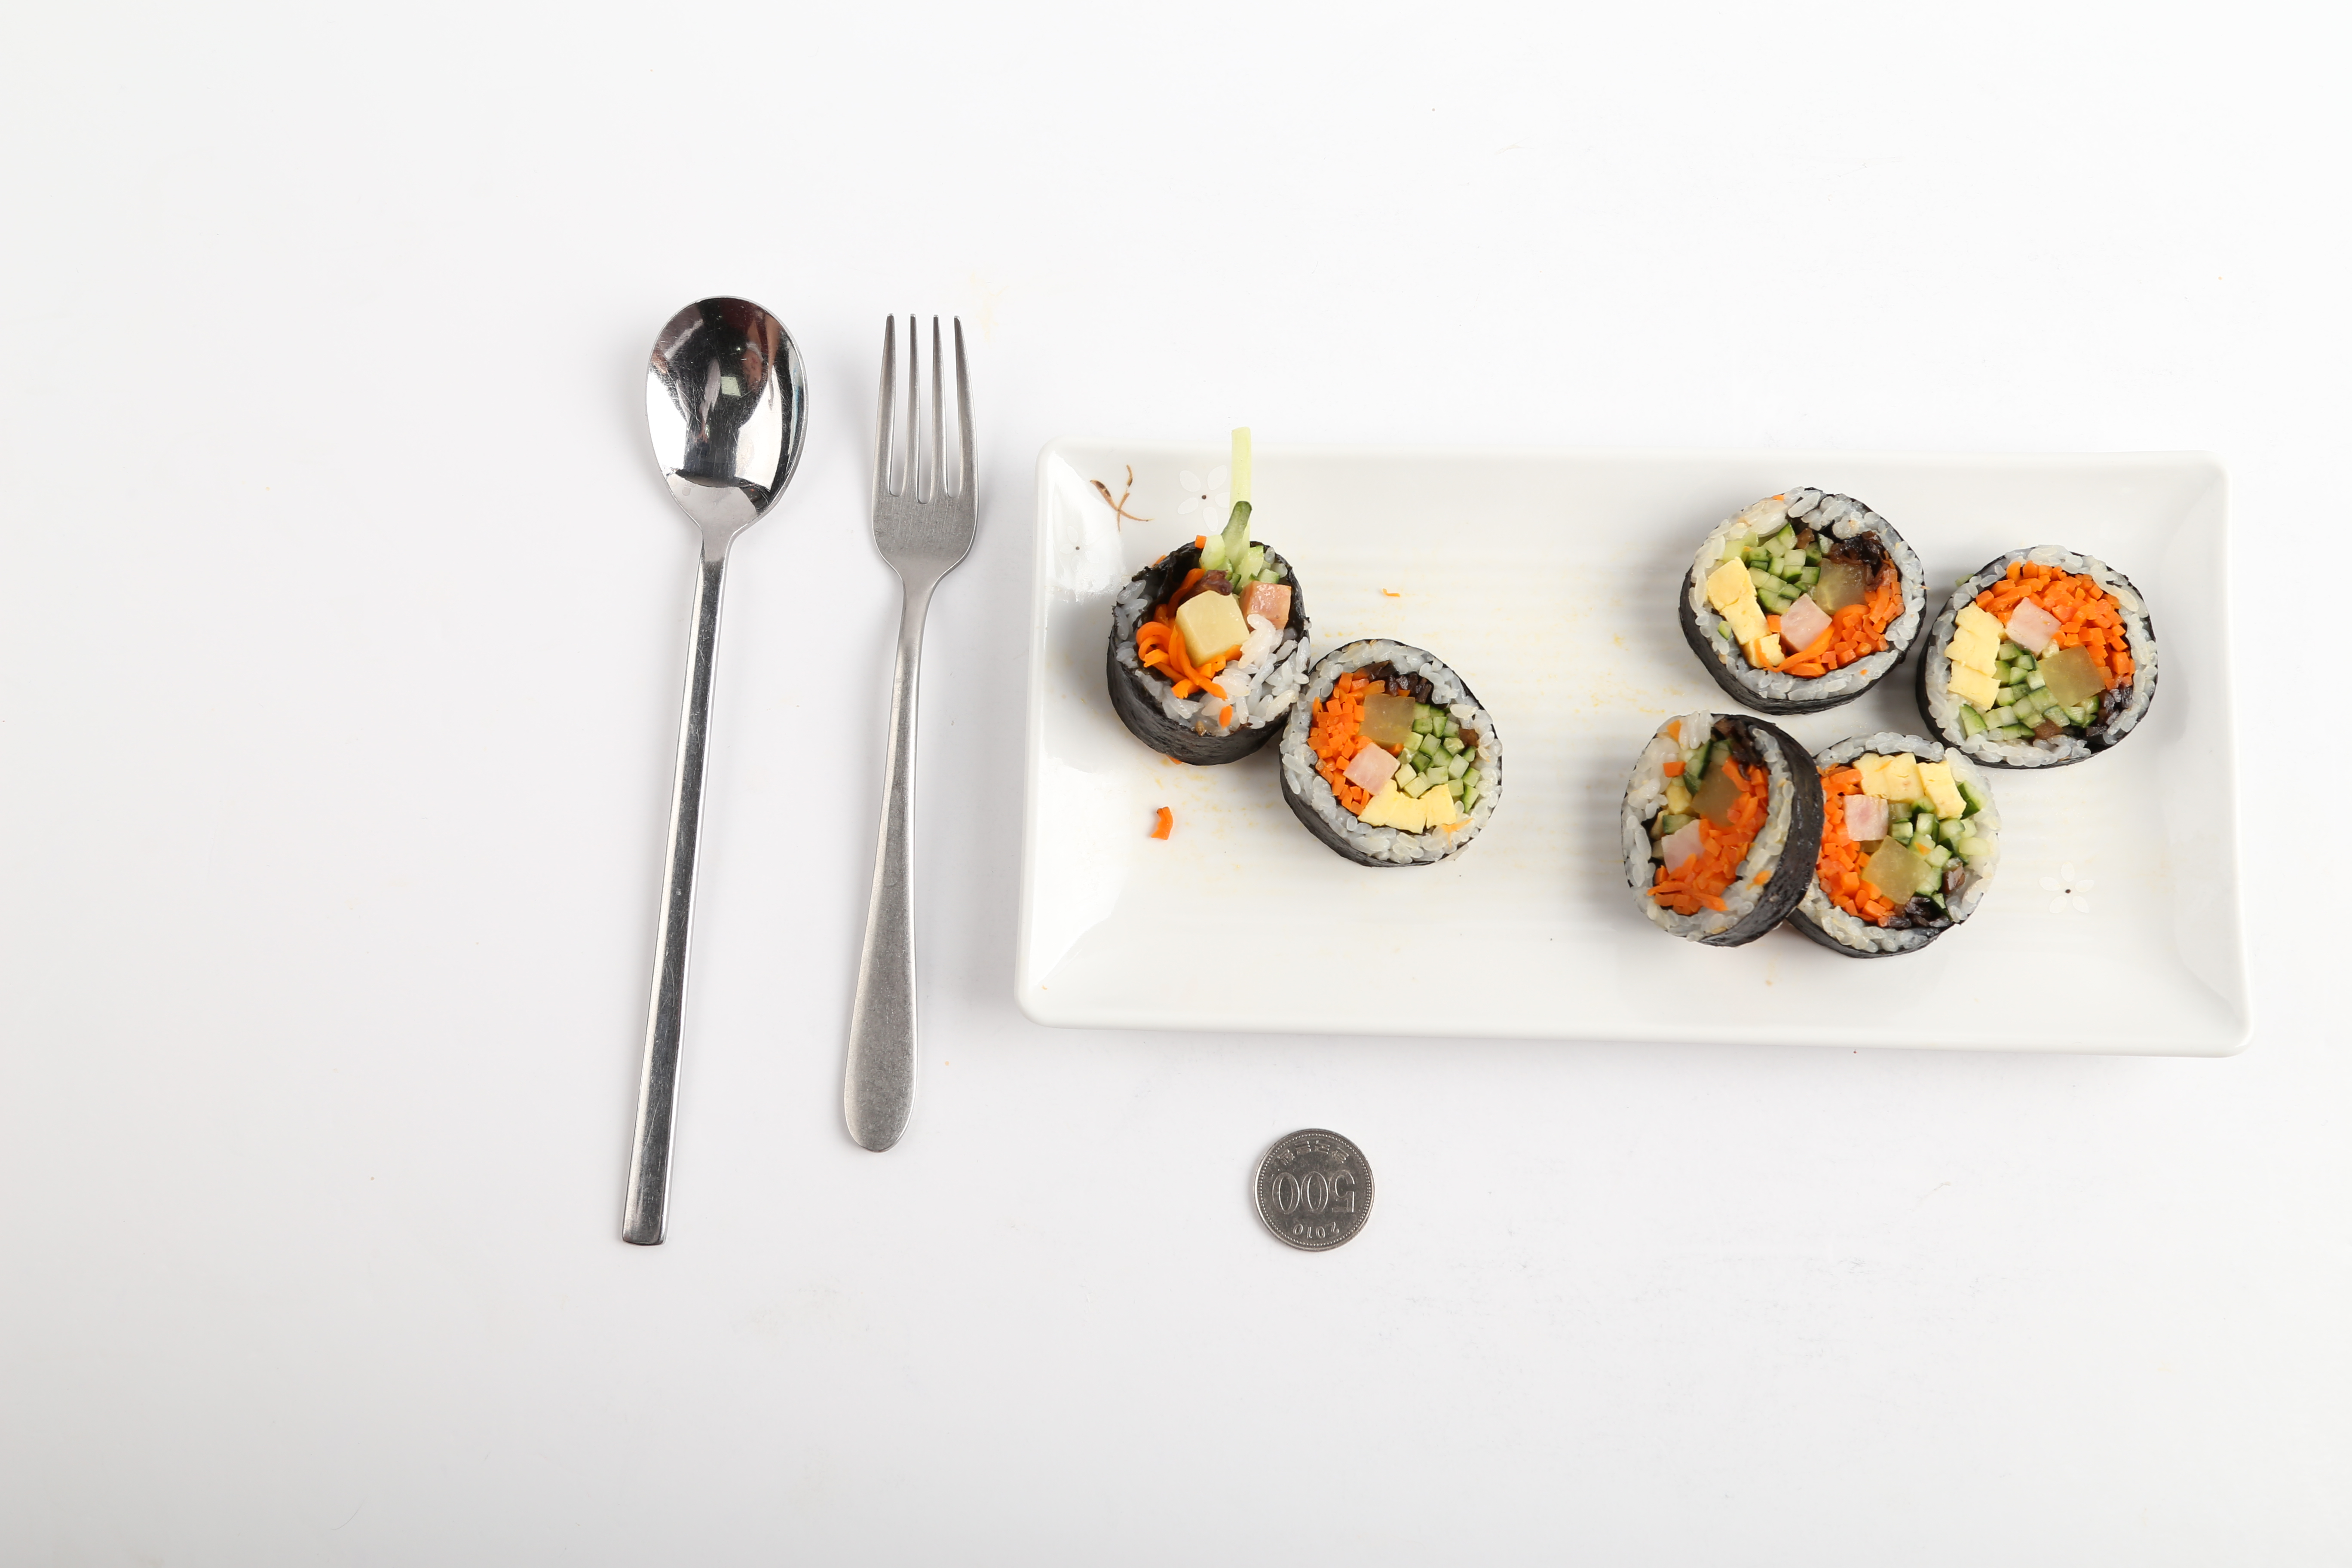dish: (1011, 430, 2250, 1062)
ref_coin: (1246, 1122, 1375, 1258)
ref_fork: (868, 308, 983, 623)
ref_spoon: (639, 294, 810, 593)
김밥: (1101, 485, 2156, 955)
